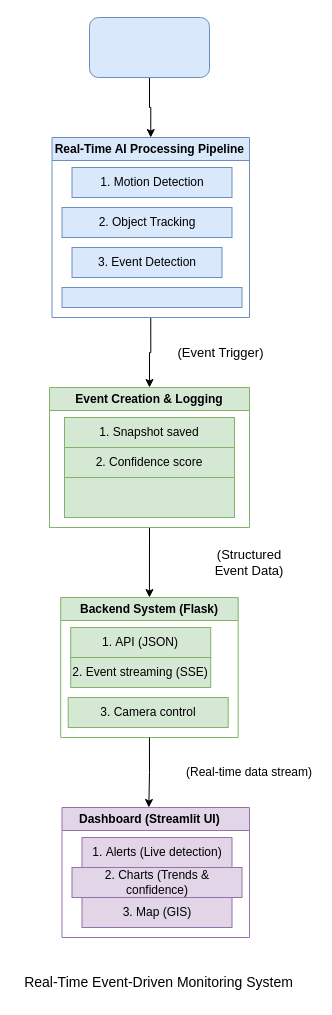
The diagram is 332 pixels wide and 1015 high, and some of its shapes have lost their labels. Each missing label, with the centre of its shape:
3. Timestamp: the point at 149,497
4. Classification (MobileNet): the point at 151,297
CCTV / Video Feed: the point at 149,47
